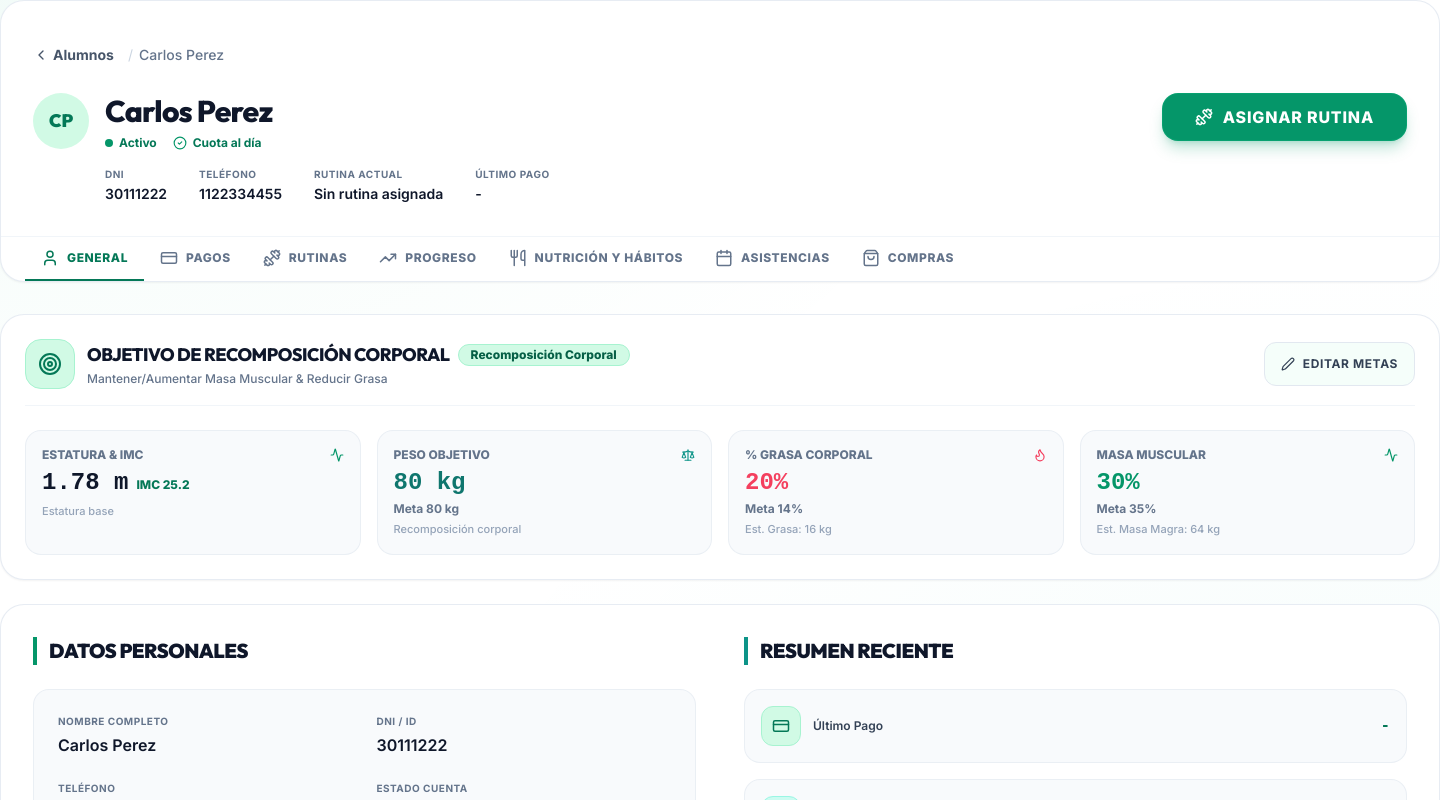
it: ClientDetailPage - fechas en hora local (spec 0008) › AC-0008-16: la tarjeta de la asistencia muestra el día 24 y "jueves"
The image size is (1440, 800).
expect the heading "Carlos Perez" is shown: met, box [105,92,272,130]
Click the tab "Asistencias" at (772, 259), box [699,237,846,281]
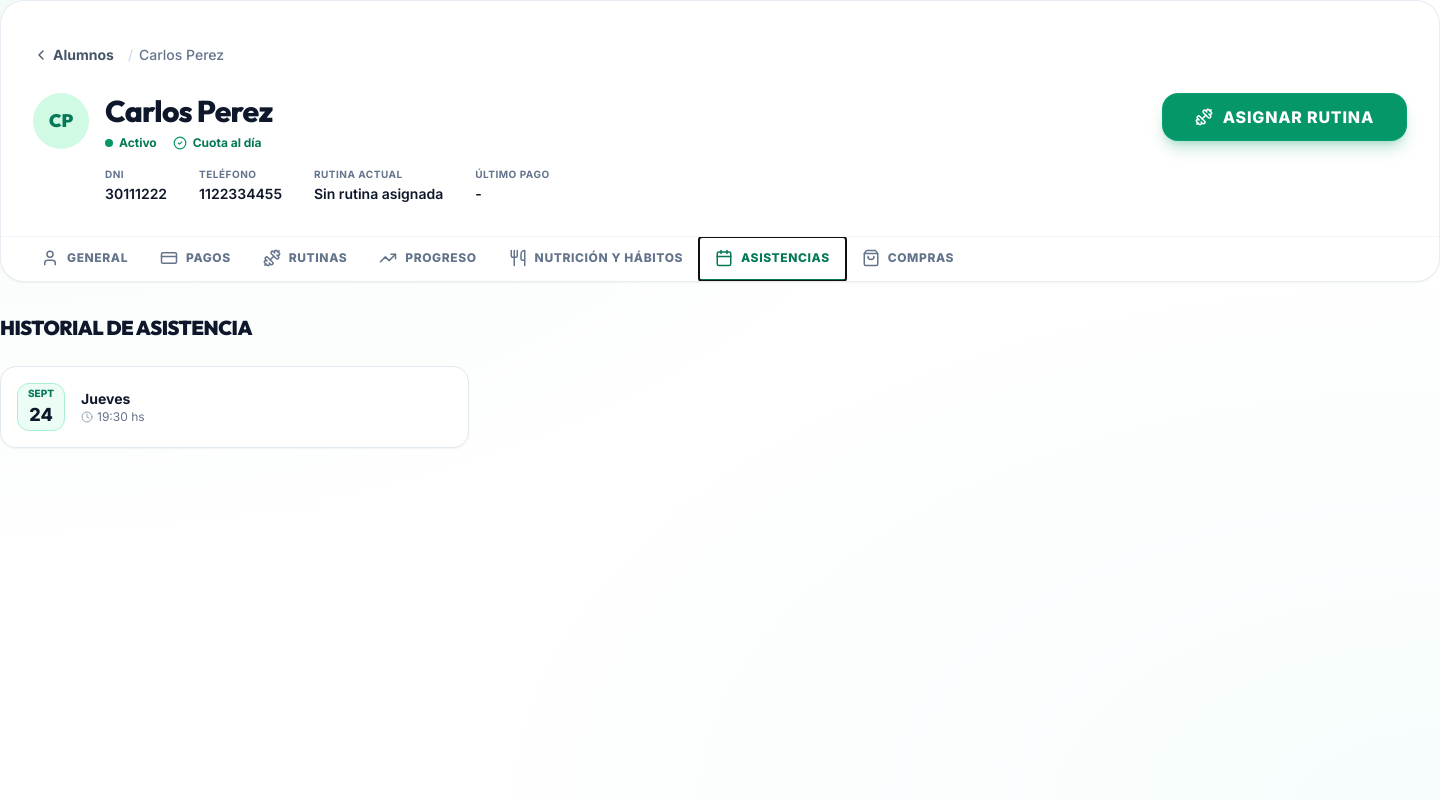
expect the text "24" is shown: met, box [29,400,53,428]
expect the text "jueves" is shown: met, box [81,390,130,407]
